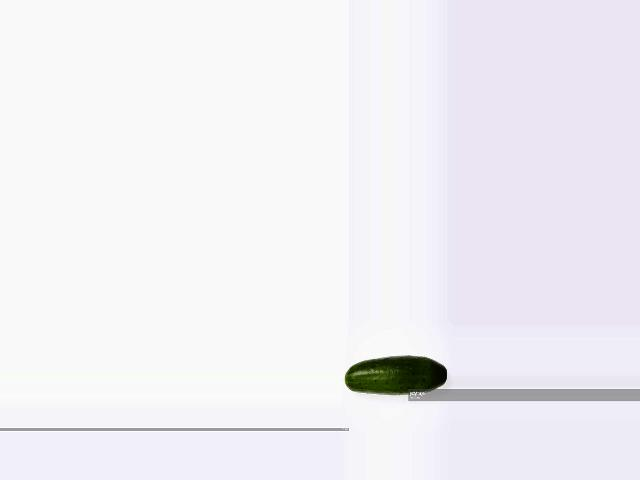cucumber: (344, 355, 448, 395)
